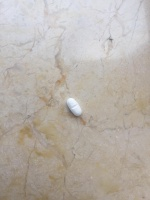Centik Buskopan: (66, 97, 83, 118)
